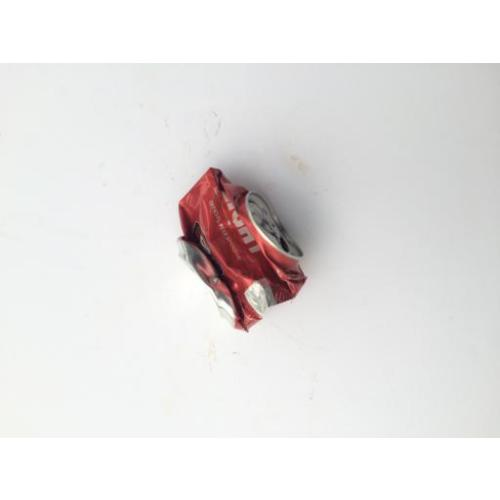metal: (177, 169, 308, 330)
